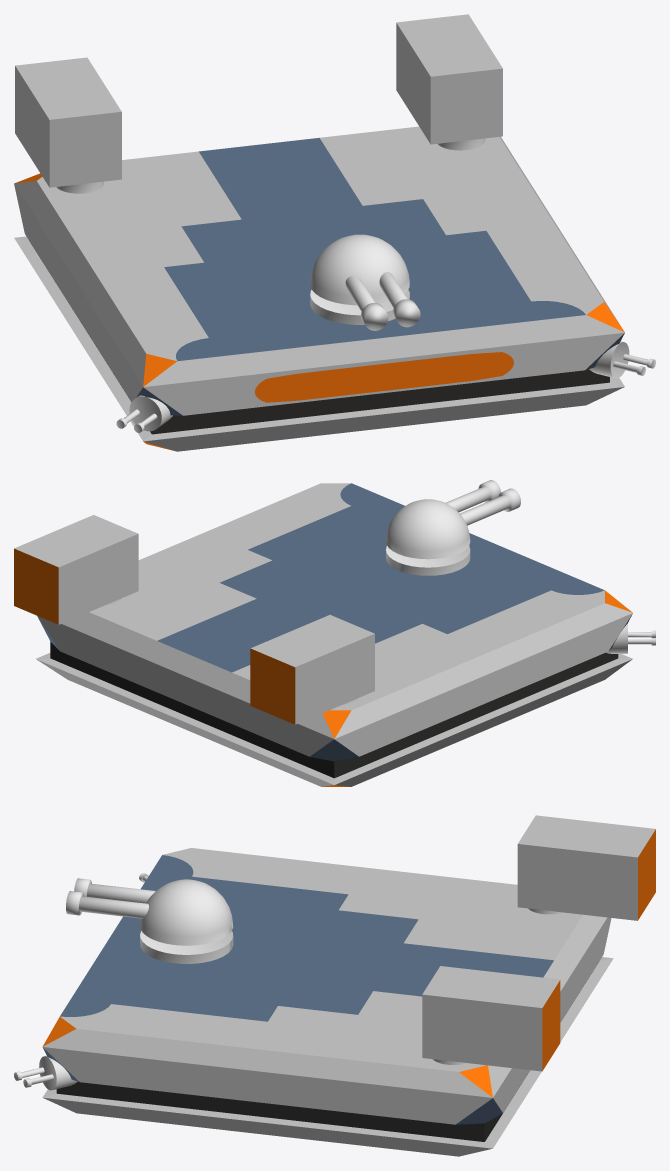
File: static defense system.fbx
3 views of the same model, one above another, from view 1: azimuth 30°, elevation 25°; view 2: azimuth 150°, elevation 25°; view 3: azimuth 270°, elevation 25° (orthographic). The views are drawn at different scales.
Parts seen in each view (by area): view 1: Cube.001; view 2: Cube.001; view 3: Cube.001.
Boxes of the visible parts, box(x1,y1,x2,y2) form: Cube.001: box(14, 14, 655, 451); Cube.001: box(14, 480, 655, 786); Cube.001: box(14, 815, 655, 1156).
Bounding box in the file's own units: 555 × 160 × 593.
